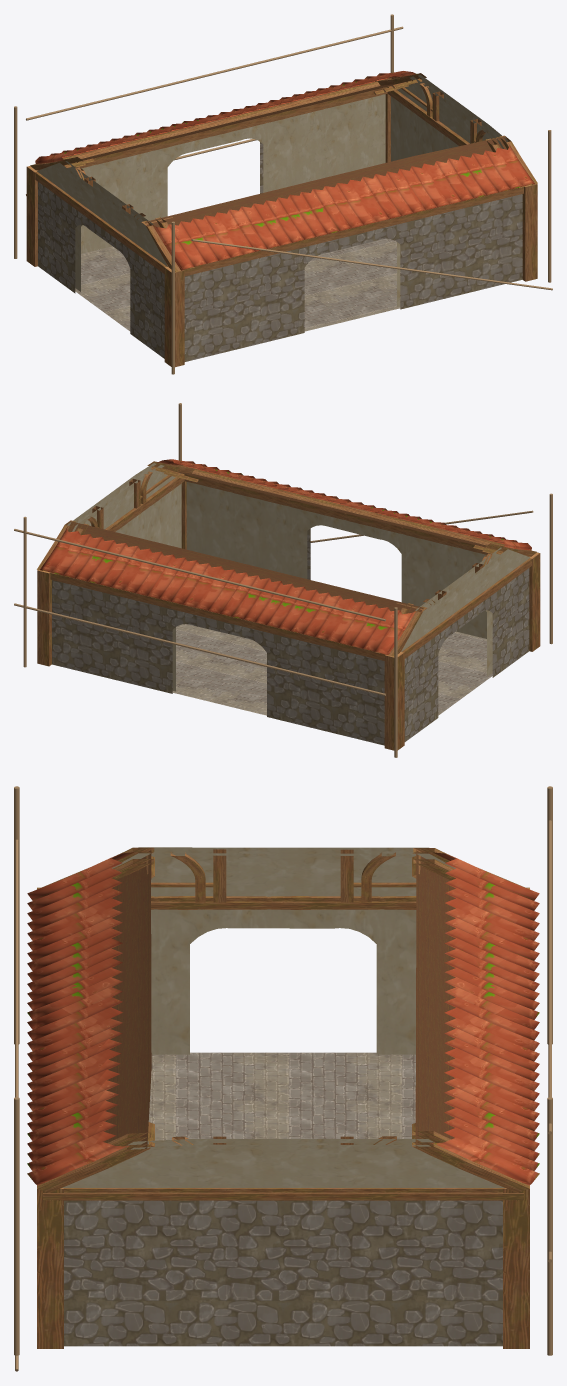
Rendered from Building5Whole_P3.glb.
3 views of the same model, one above another, from view 1: azimuth 30°, elevation 25°; view 2: azimuth 150°, elevation 25°; view 3: azimuth 270°, elevation 25° (orthographic). The views are drawn at different scales.
Parts seen in each view (by area): view 1: Building5Whole_P3; view 2: Building5Whole_P3; view 3: Building5Whole_P3.
Part boxes in pixels (left/top/right/bottom): Building5Whole_P3: left=14, top=14, right=552, bottom=374; Building5Whole_P3: left=14, top=403, right=552, bottom=757; Building5Whole_P3: left=14, top=786, right=552, bottom=1371.
Size of the model in its own units: 13.43 by 5.29 by 9.53.
Materials: 8 (7 with a texture image).
